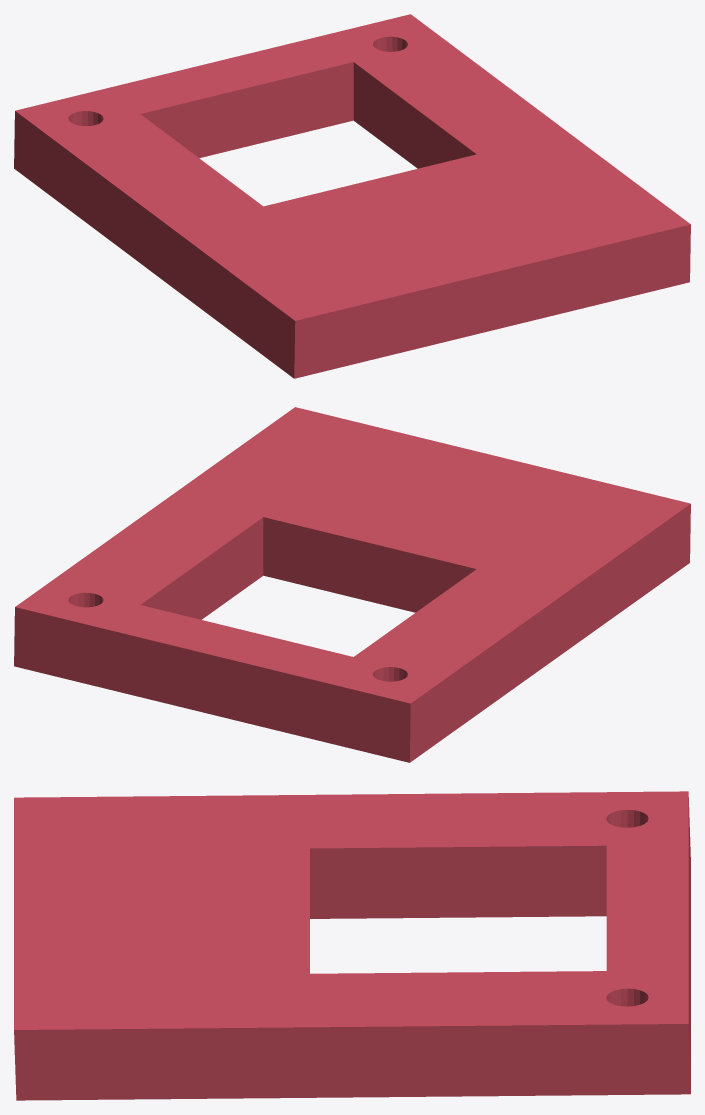
File: Learning the Moves.glb
3 renders of one model, top to bottom at view 1: azimuth 30°, elevation 25°; view 2: azimuth 150°, elevation 25°; view 3: azimuth 270°, elevation 25°, orthographic. The views are drawn at different scales.
Parts seen in each view (by area): view 1: Mesh_Mesh_head_geo.001_lambert2SG.001; view 2: Mesh_Mesh_head_geo.001_lambert2SG.001; view 3: Mesh_Mesh_head_geo.001_lambert2SG.001.
Boxes of the visible parts, x1,y1,x2,y2 form: Mesh_Mesh_head_geo.001_lambert2SG.001: [14, 14, 690, 378]; Mesh_Mesh_head_geo.001_lambert2SG.001: [14, 407, 690, 762]; Mesh_Mesh_head_geo.001_lambert2SG.001: [14, 791, 690, 1100].
Bounding box in the file's own units: 13 × 2 × 16.
